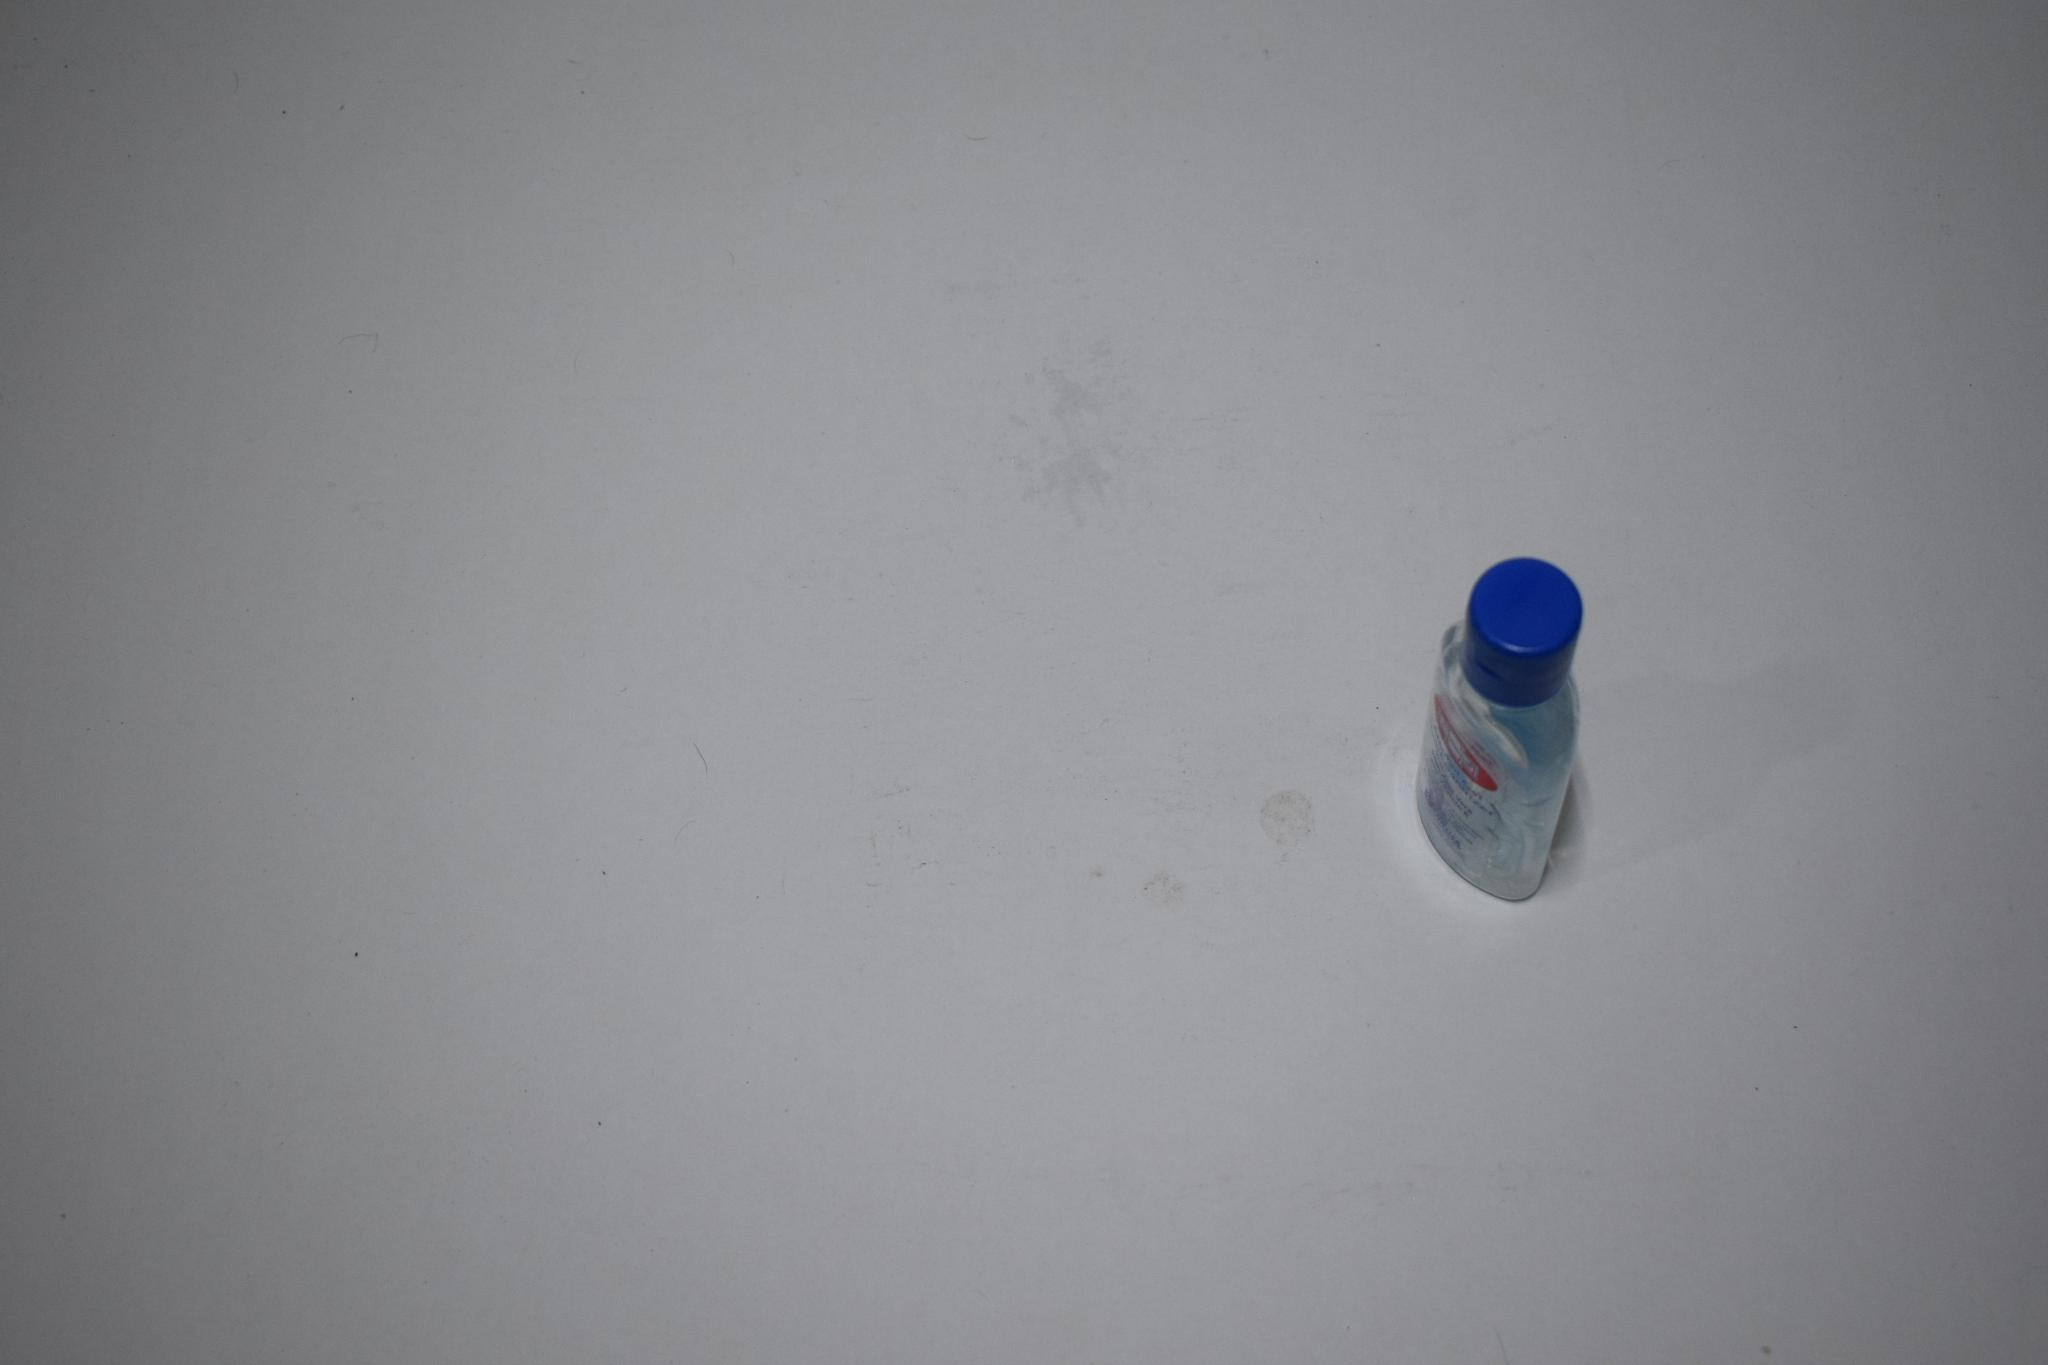bottle: (1432, 538, 1608, 758)
